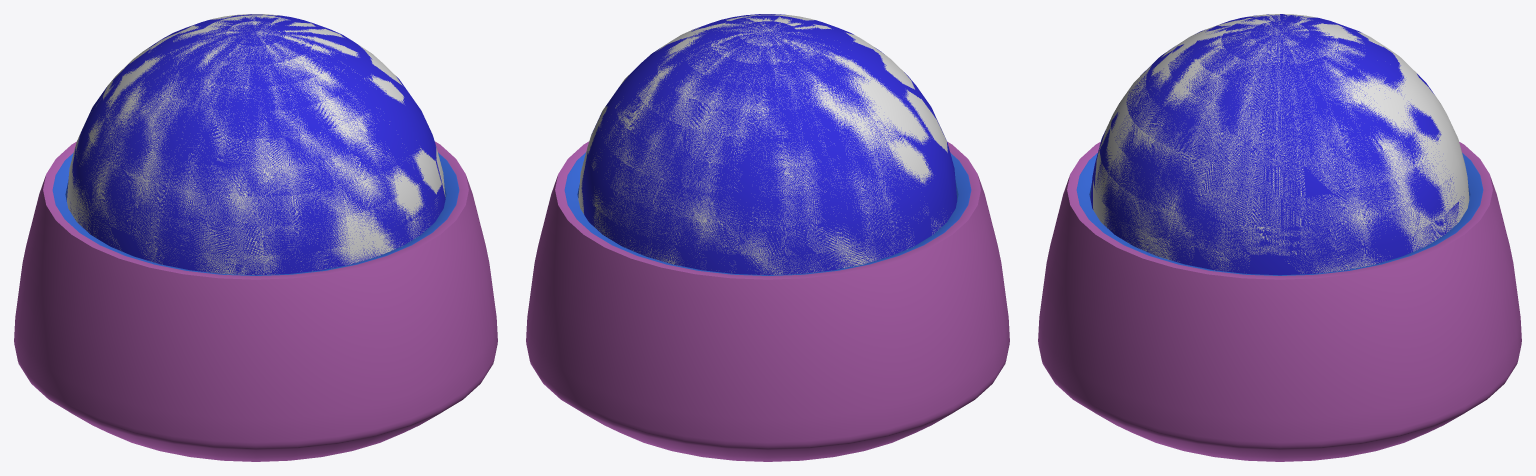
The model's file is Camera_2.fbx.
The picture shows the model from 3 angles, left to right: view 1: azimuth 30°, elevation 25°; view 2: azimuth 150°, elevation 25°; view 3: azimuth 270°, elevation 25°; orthographic projection.
Parts seen in each view (by area): view 1: Camera_2_2_LOD0, Camera_2_glass_LOD0; view 2: Camera_2_2_LOD0, Camera_2_glass_LOD0; view 3: Camera_2_2_LOD0, Camera_2_glass_LOD0.
Boxes of the visible parts, x1=… form: Camera_2_2_LOD0: x1=14, y1=14, x2=497, y2=461; Camera_2_glass_LOD0: x1=67, y1=14, x2=445, y2=274; Camera_2_2_LOD0: x1=526, y1=14, x2=1009, y2=461; Camera_2_glass_LOD0: x1=578, y1=14, x2=947, y2=274; Camera_2_2_LOD0: x1=1038, y1=14, x2=1521, y2=461; Camera_2_glass_LOD0: x1=1093, y1=14, x2=1469, y2=273.
Size of what is drawn, in the model's own units: 9.29 by 7.47 by 9.29.
